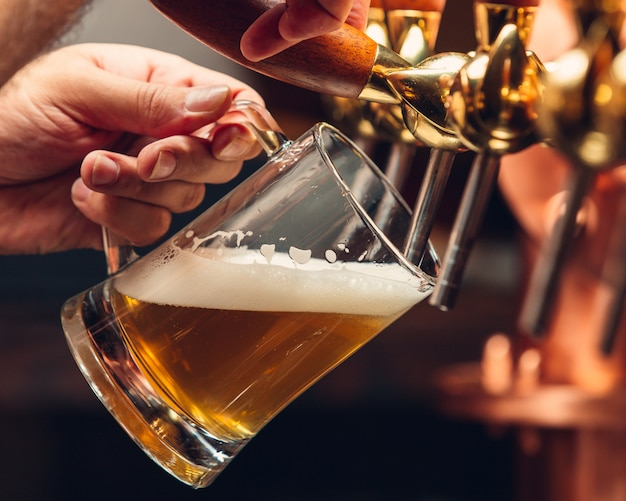alcohol: (54, 120, 443, 492)
